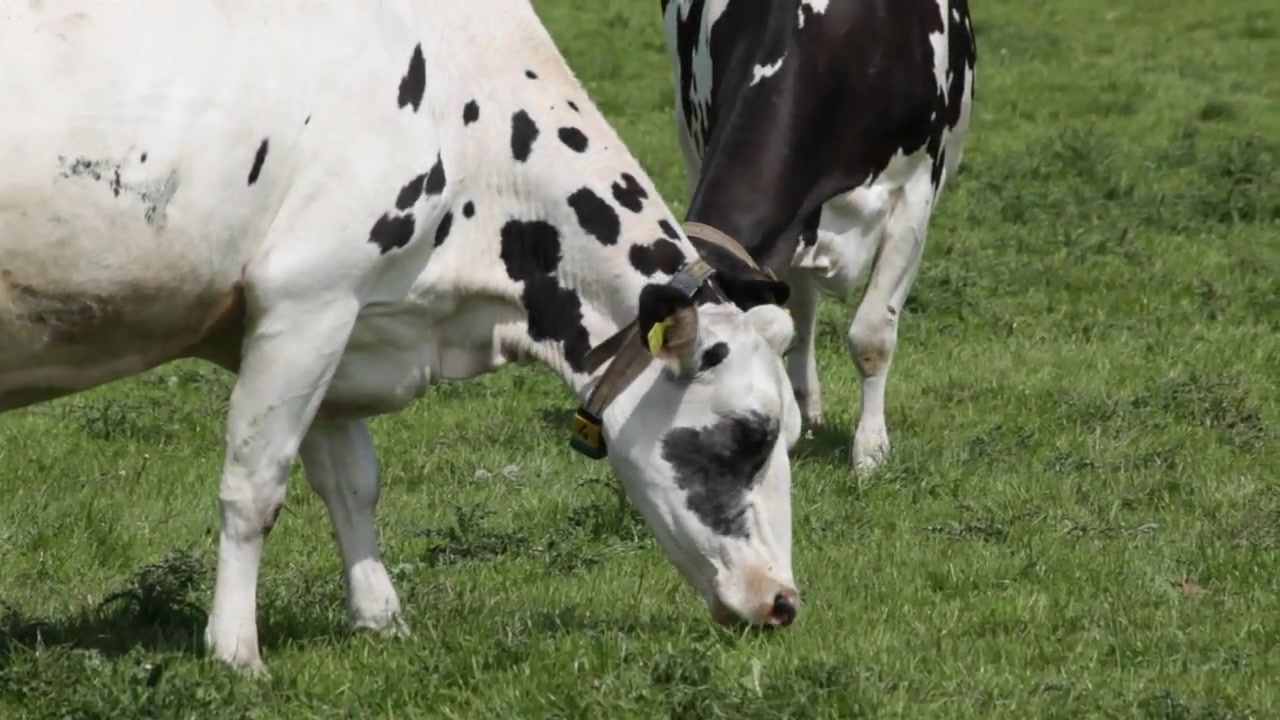cow: (1, 3, 806, 720)
